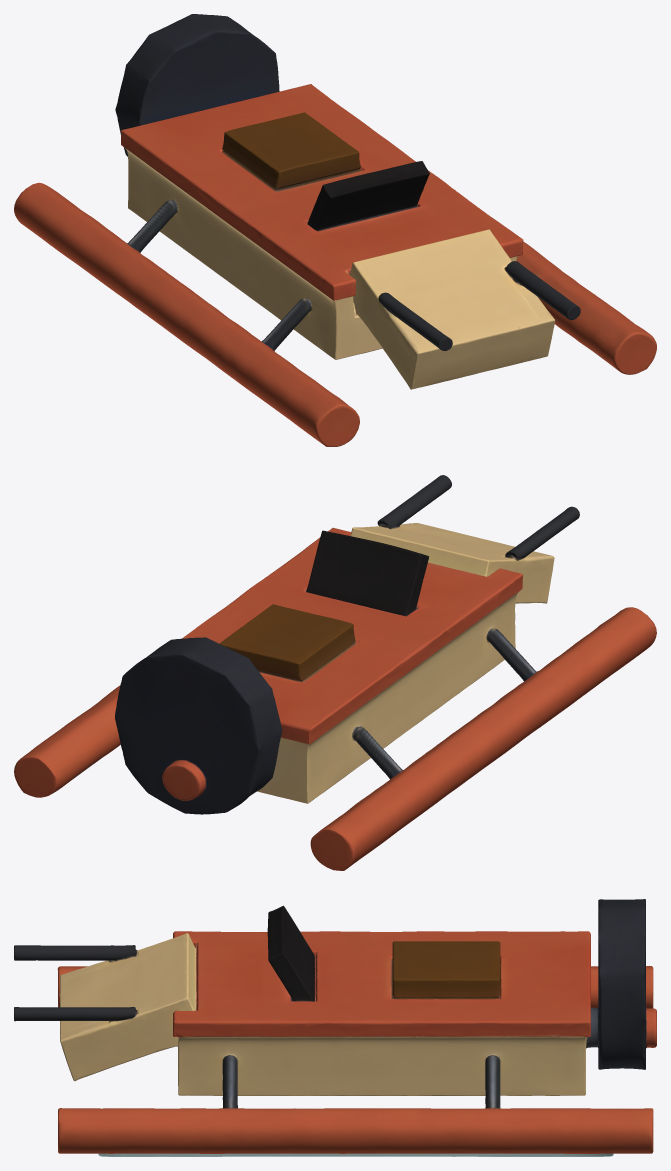
The model's file is speeder_ref.glb.
The picture shows the model from 3 angles, top to bottom: view 1: azimuth 30°, elevation 25°; view 2: azimuth 150°, elevation 25°; view 3: azimuth 270°, elevation 25°; orthographic projection. The views are drawn at different scales.
Parts seen in each view (by area): view 1: model; view 2: model; view 3: model.
Part boxes in pixels (x1,y1,x2,y2): model: (14,14,656,446); model: (14,475,656,870); model: (14,899,656,1156).
Bounding box in the file's own units: 1.13 × 0.5829 × 1.89.
Materials: 1 (1 with a texture image).
